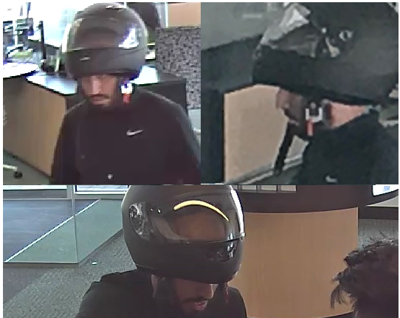helmet: (110, 184, 247, 281), (246, 2, 396, 90), (54, 0, 151, 72)
